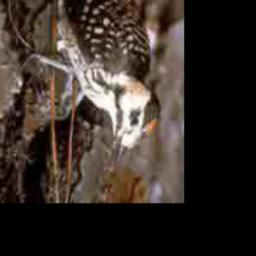Woodpecker: (30, 0, 160, 183)
